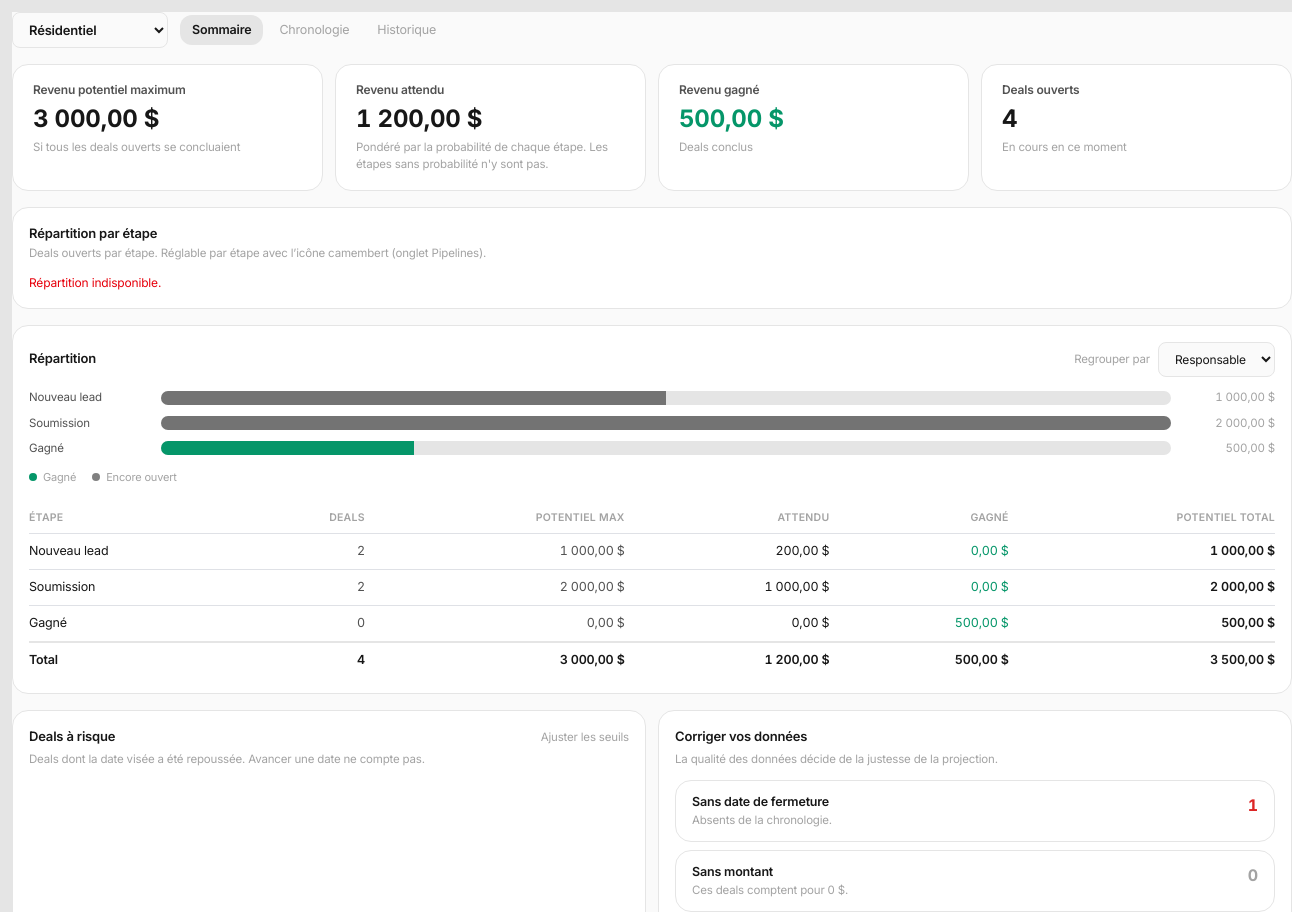
Test case: répartition › changer d'axe relance une vraie requête
The width and height of the screenshot is (1292, 912).
Select "Responsable" in the dropdown labelled "Regrouper par" at (1216, 360), box [1158,342,1275,377]
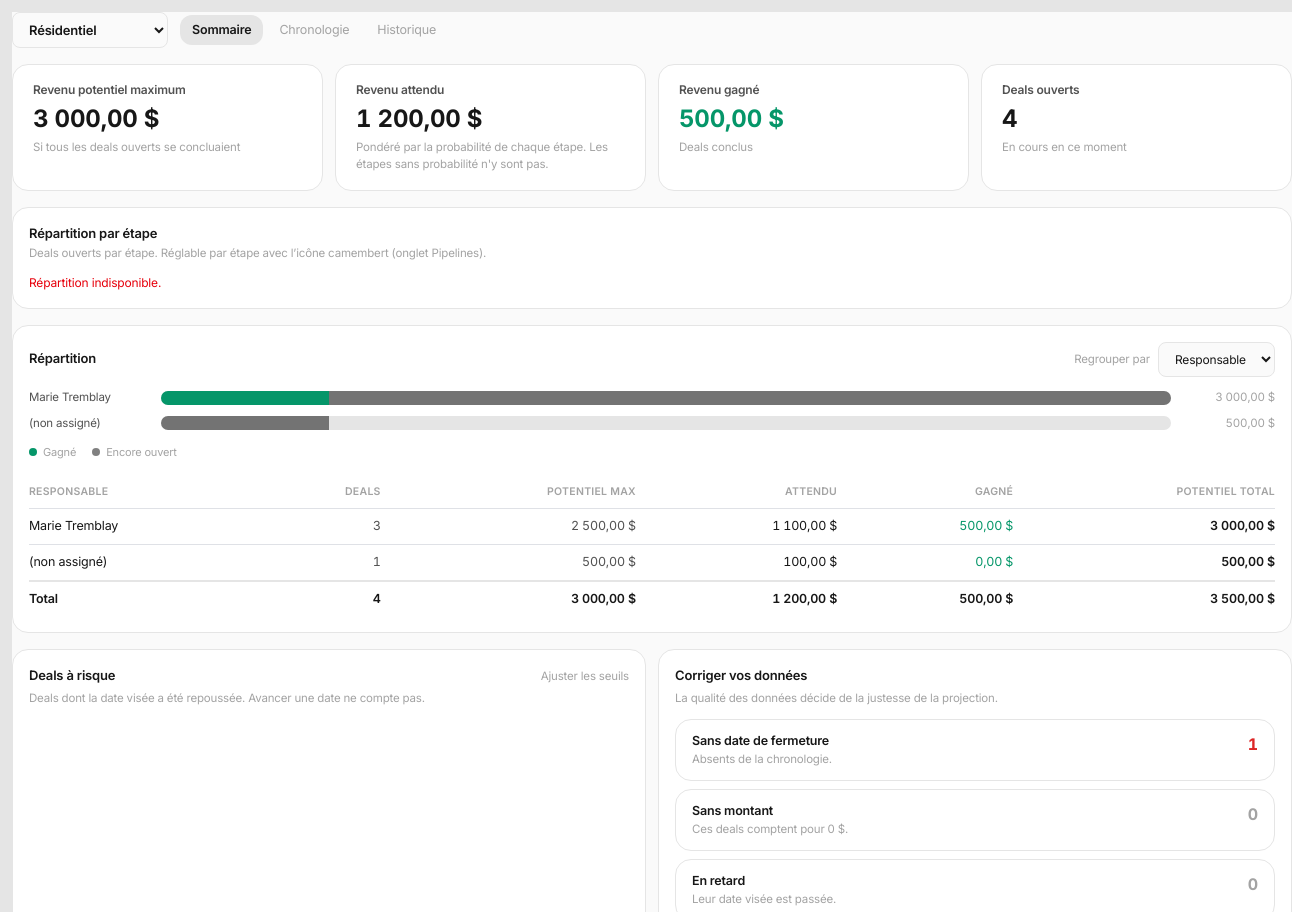
Now the row "Marie Tremblay 3 2 500,00 $ 1 100,00 $ 500,00 $ 3 000,00 $" is shown, box [29,508,1275,544]
